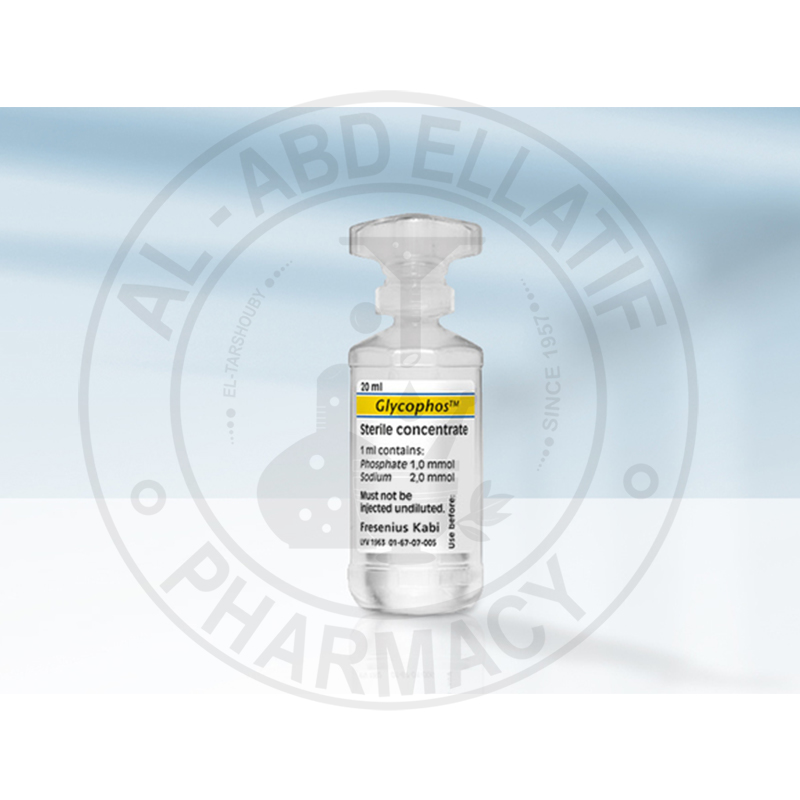Medicine: (334, 194, 488, 634)
